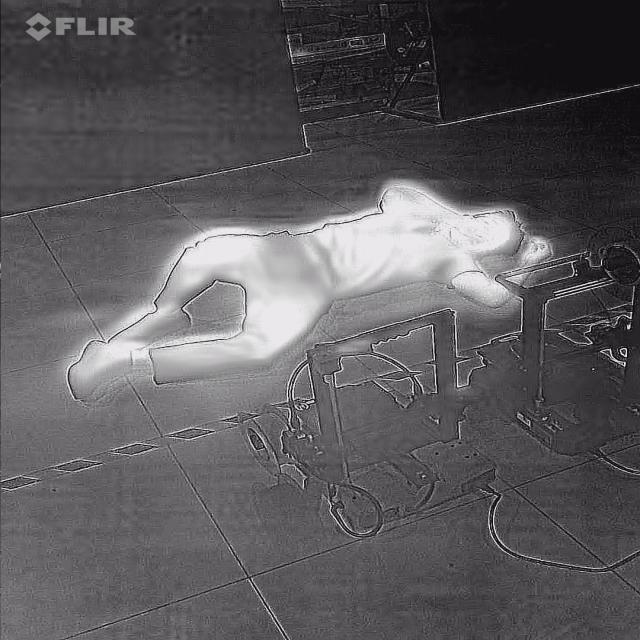Victim: (61, 171, 565, 417)
